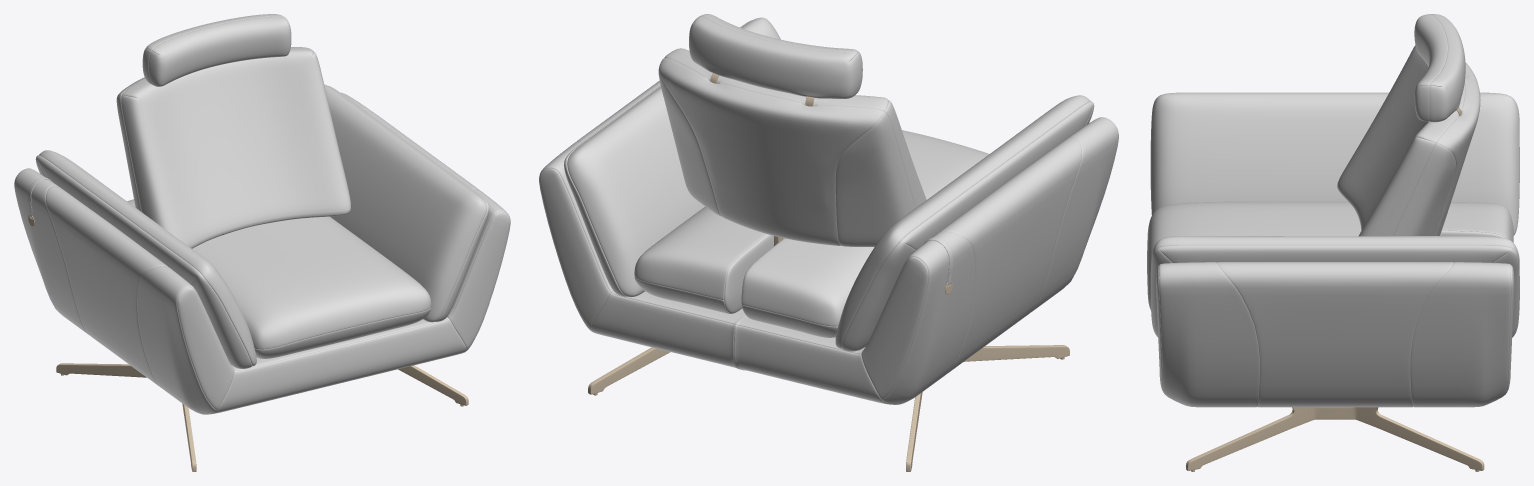
The model's file is SLN_Candy_Pop_Arm_Chair.glb.
3 views of the same model, side by side, from view 1: azimuth 30°, elevation 25°; view 2: azimuth 150°, elevation 25°; view 3: azimuth 270°, elevation 25° (orthographic). The views are drawn at different scales.
Visible parts, largest first — view 1: Candy Pop - Arm Chair; view 2: Candy Pop - Arm Chair; view 3: Candy Pop - Arm Chair.
Boxes of the visible parts, x1=… form: Candy Pop - Arm Chair: x1=14, y1=14, x2=510, y2=471; Candy Pop - Arm Chair: x1=539, y1=14, x2=1118, y2=471; Candy Pop - Arm Chair: x1=1147, y1=14, x2=1519, y2=471.
Bounding box in the file's own units: 1.15 × 1.06 × 1.02.
